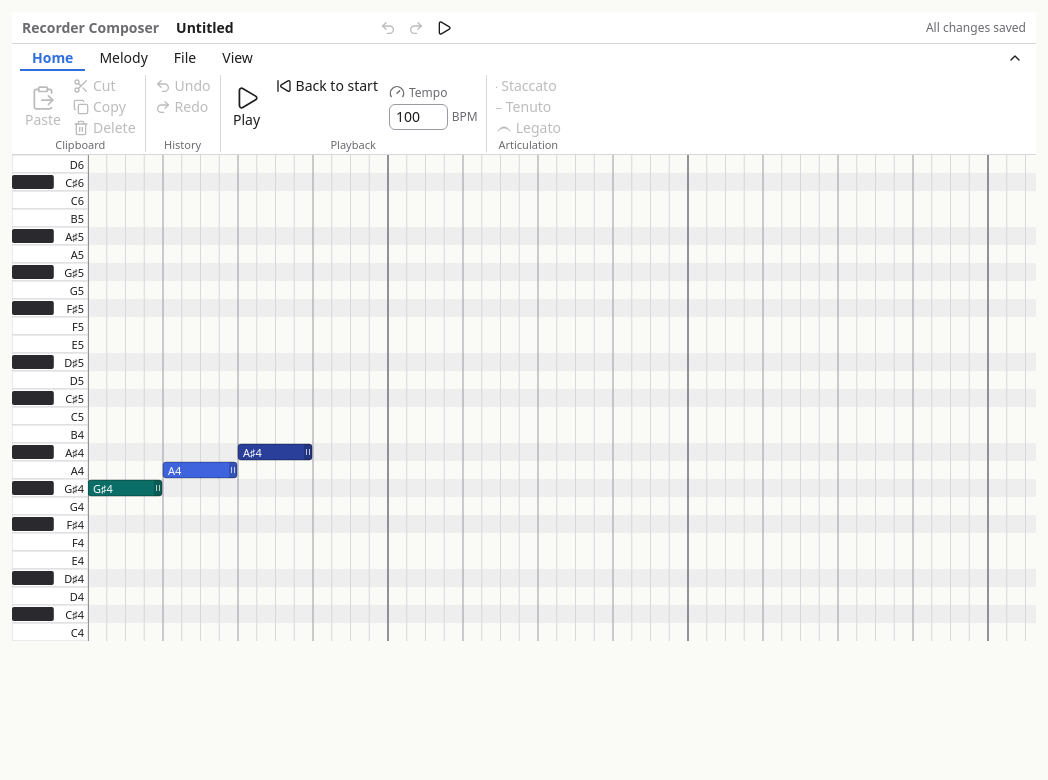
Test: Collapsed ribbon (003 US4, FR-011) › the collapse button pins the ribbon open again
Click the button named "Collapse the ribbon". click: click(1015, 58)
box: [1002, 48, 1028, 68]
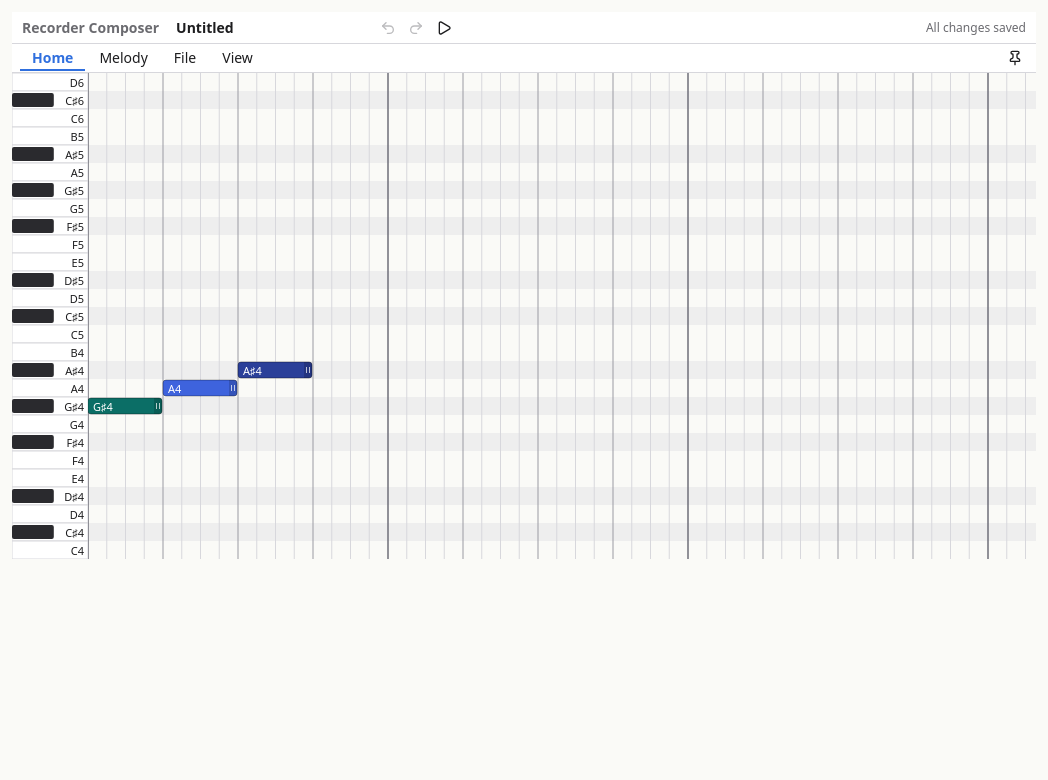
Now the button named "Pin the ribbon" is collapsed
Click the button named "Pin the ribbon". click: click(1015, 58)
box: [1002, 48, 1028, 68]
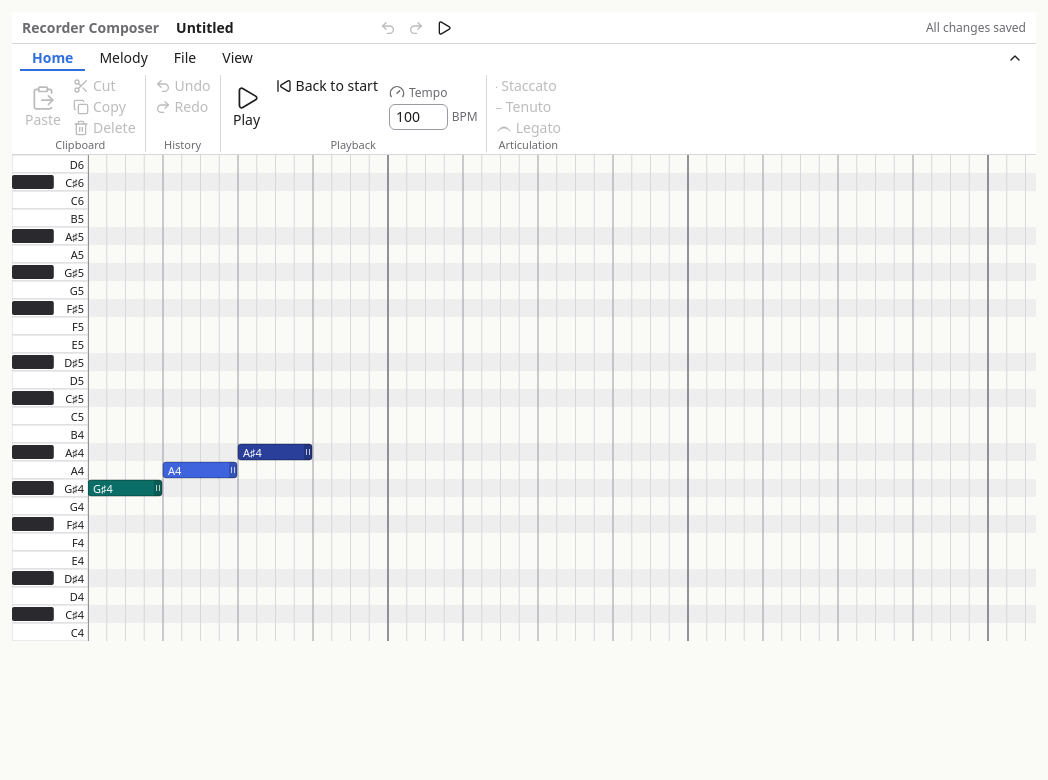
Now the panel is shown, box [20, 75, 566, 152]
